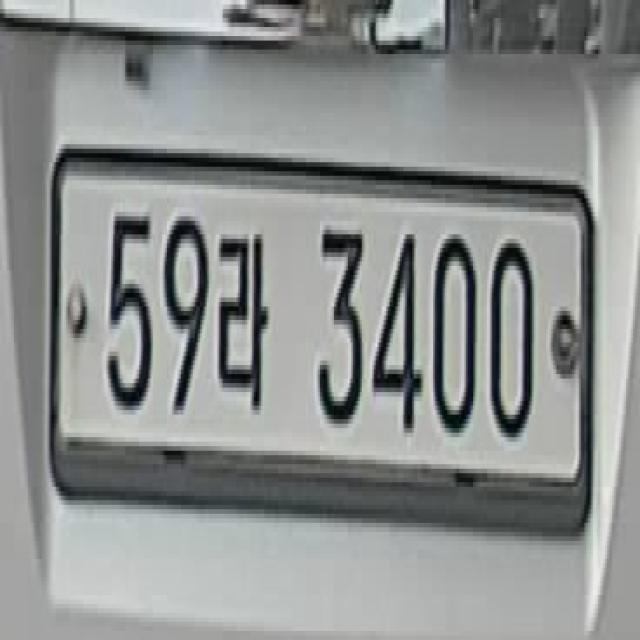plat: (49, 143, 595, 531)
